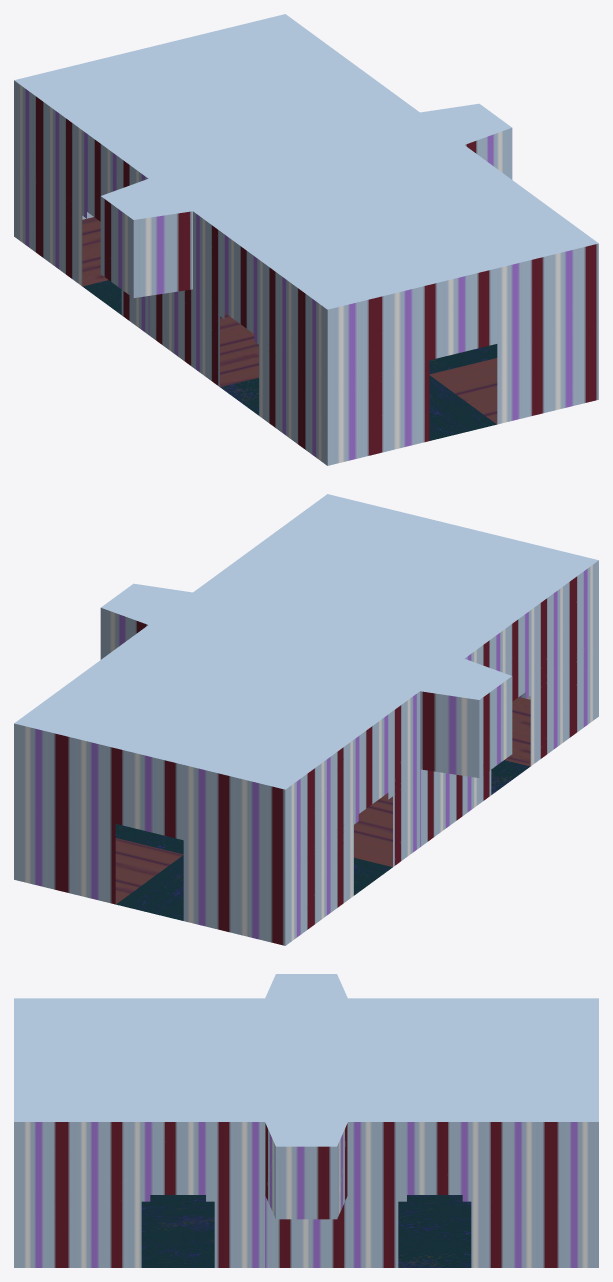
Rendered from Hall_SalaGrande.fbx.
The picture shows the model from 3 angles, top to bottom: view 1: azimuth 30°, elevation 25°; view 2: azimuth 150°, elevation 25°; view 3: azimuth 270°, elevation 25°; orthographic projection. The views are drawn at different scales.
Visible parts, largest first — view 1: Hall_SalaGrande; view 2: Hall_SalaGrande; view 3: Hall_SalaGrande.
Part boxes in pixels (x1,y1,x2,y2): Hall_SalaGrande: (14, 14, 598, 465); Hall_SalaGrande: (14, 494, 598, 945); Hall_SalaGrande: (14, 974, 598, 1267).
Bounding box in the file's own units: 1116 × 440 × 1600.
Materials: 2 (2 with a texture image).
